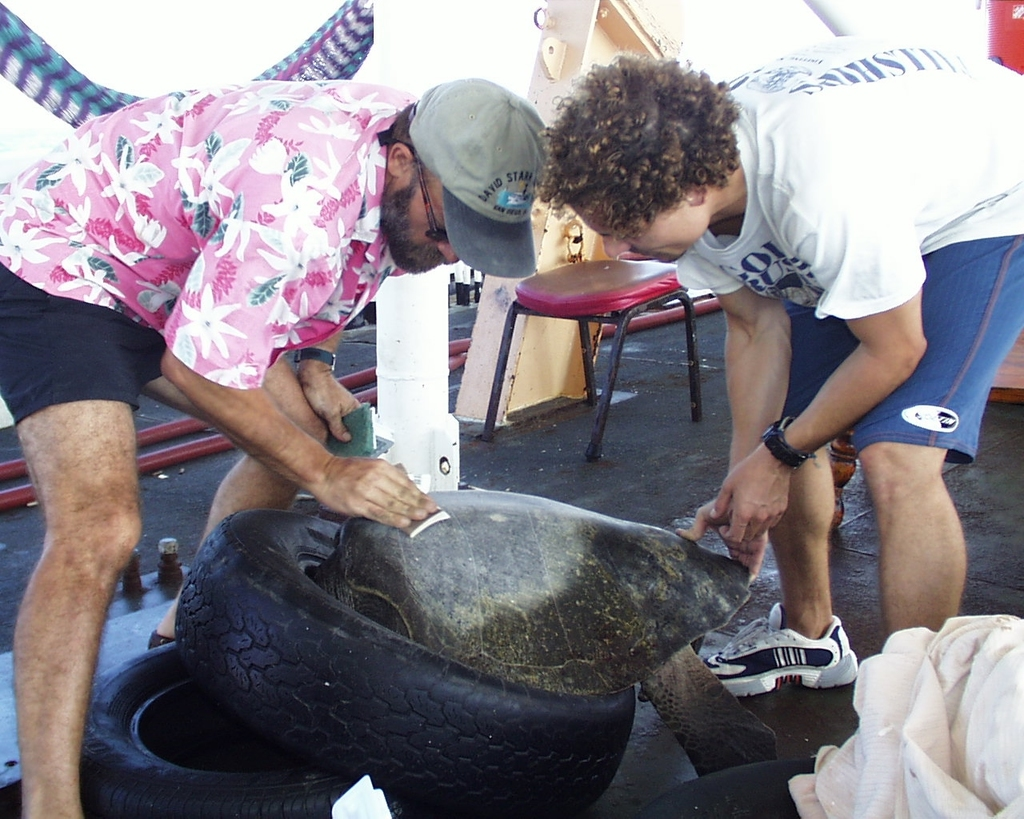Sea turtles: (309, 485, 786, 777)
